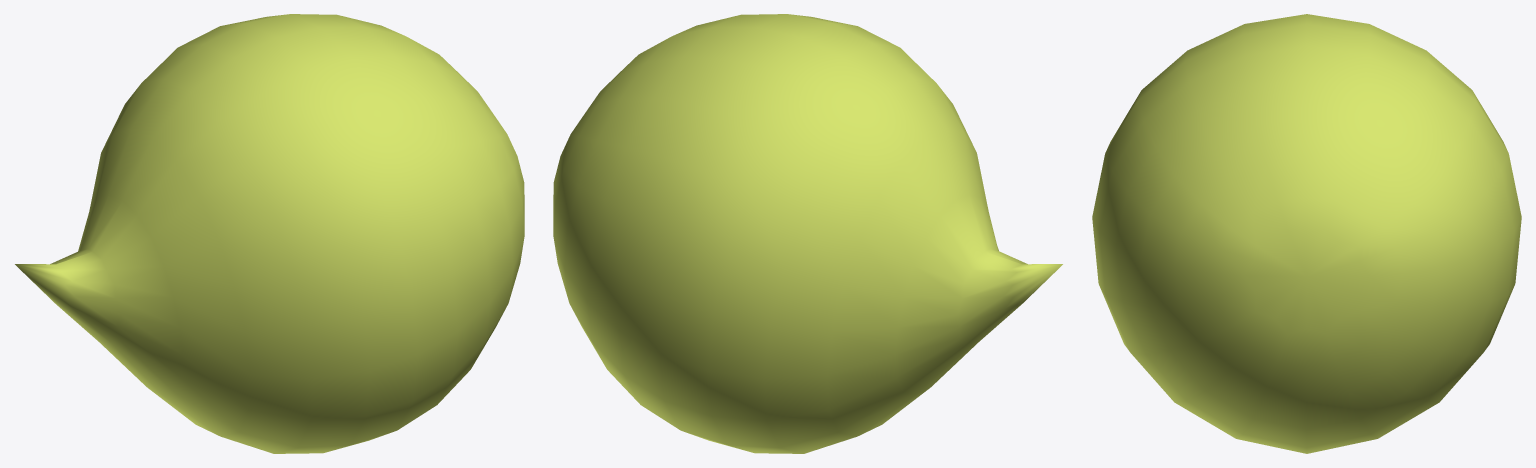
The model's file is drop_260.fbx.
The picture shows the model from 3 angles, left to right: view 1: azimuth 30°, elevation 25°; view 2: azimuth 150°, elevation 25°; view 3: azimuth 270°, elevation 25°; orthographic projection. The views are drawn at different scales.
Visible parts, largest first — view 1: drop260; view 2: drop260; view 3: drop260.
Part boxes in pixels (x1,y1,x2,y2): drop260: (15,14,524,453); drop260: (553,14,1062,453); drop260: (1092,14,1521,453).
Size of the model in its own units: 0.3027 by 0.244 by 0.2401.
